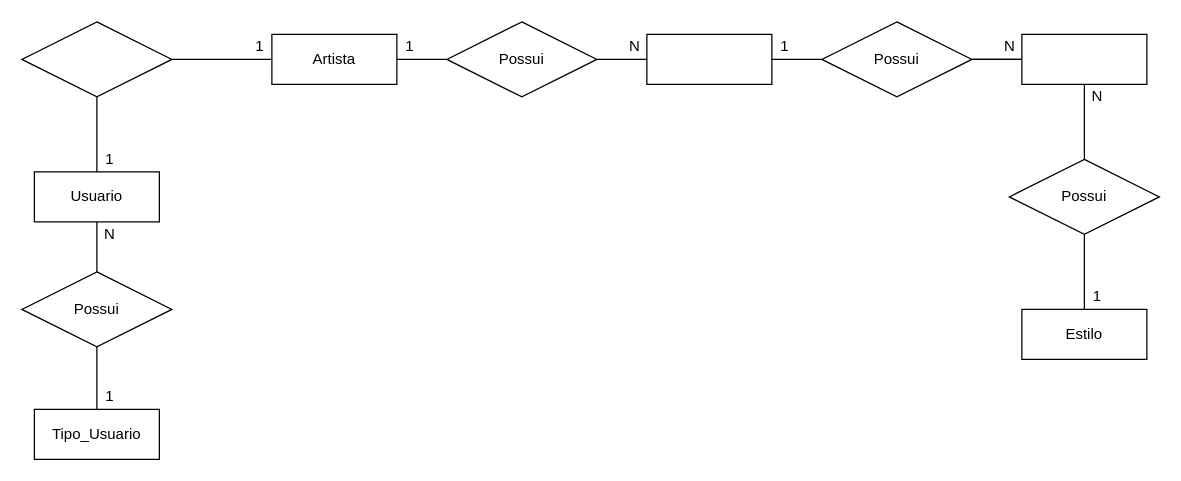
Some shapes in this 1181 by 481 pixel diagram are drawn without their labels. Here are the shapes that lost their labels. From the top down, the centre of each, then its label:
At (96,59): "Loga".
At (709,58): "Album".
At (1084,58): "Estilo_Album".
